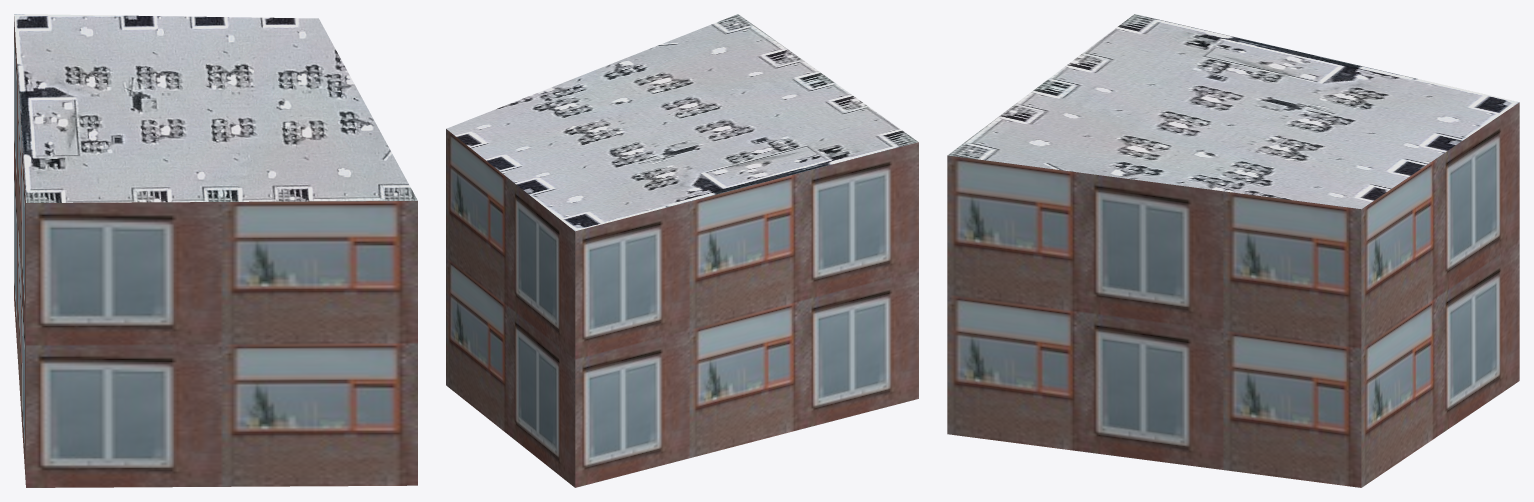
Rendered from ResTex__2251.fbx.
The picture shows the model from 3 angles, left to right: view 1: azimuth 30°, elevation 25°; view 2: azimuth 150°, elevation 25°; view 3: azimuth 270°, elevation 25°; orthographic projection. The views are drawn at different scales.
Parts seen in each view (by area): view 1: CityEngineMaterial_19_m, CityEngineMaterial_15_m; view 2: CityEngineMaterial_19_m, CityEngineMaterial_15_m; view 3: CityEngineMaterial_19_m, CityEngineMaterial_15_m.
Boxes of the visible parts, box(x1,y1,x2,y2) form: CityEngineMaterial_19_m: box(14, 16, 417, 487); CityEngineMaterial_15_m: box(14, 14, 417, 202); CityEngineMaterial_19_m: box(446, 129, 918, 487); CityEngineMaterial_15_m: box(446, 14, 918, 231); CityEngineMaterial_19_m: box(947, 102, 1519, 487); CityEngineMaterial_15_m: box(947, 14, 1519, 209).
Size of the model in its own units: 9.01 by 6 by 11.16.
Materials: 2 (2 with a texture image).
